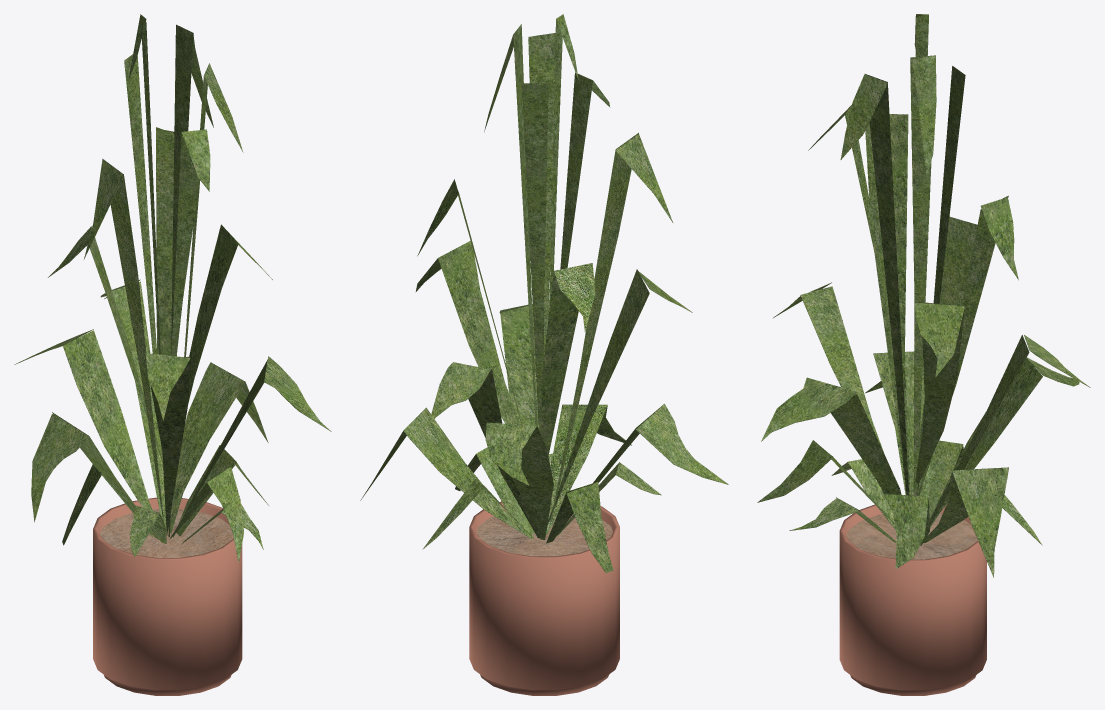
Rendered from Plant.FBX.
3 views of the same model, side by side, from view 1: azimuth 30°, elevation 25°; view 2: azimuth 150°, elevation 25°; view 3: azimuth 270°, elevation 25° (orthographic). The views are drawn at different scales.
Parts seen in each view (by area): view 1: Plant; view 2: Plant; view 3: Plant.
Part boxes in pixels (x1,y1,x2,y2): Plant: [14, 14, 331, 695]; Plant: [360, 14, 728, 695]; Plant: [757, 14, 1090, 695].
Size of the model in its own units: 69.66 by 145 by 68.
